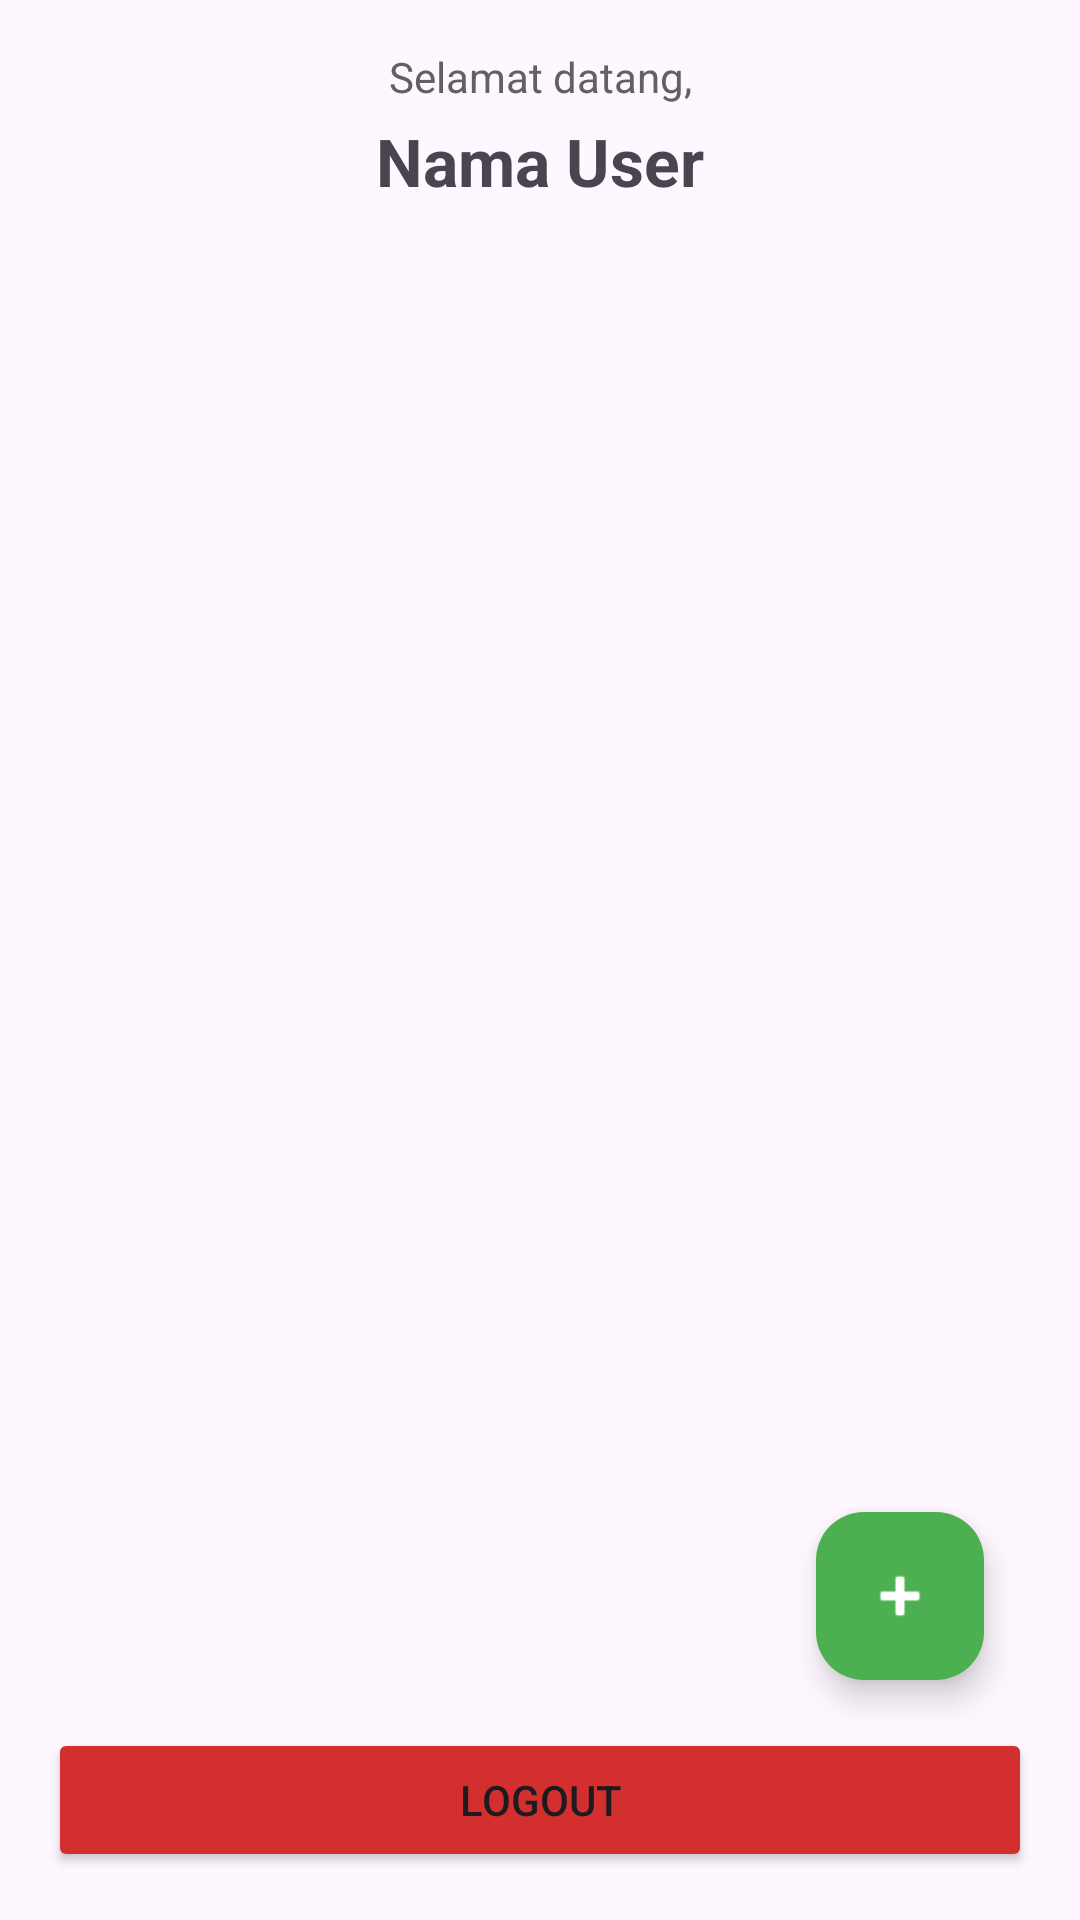

Icons on this 1080 x 1920 Android screen, each with the point to tap as (x=x, y=y):
Tambah Pasien: (x=900, y=1596)
